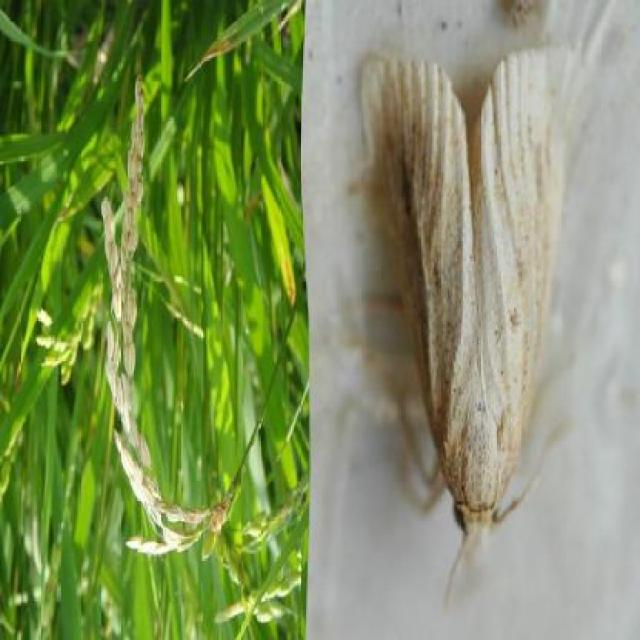stem-borer: (360, 48, 571, 568)
